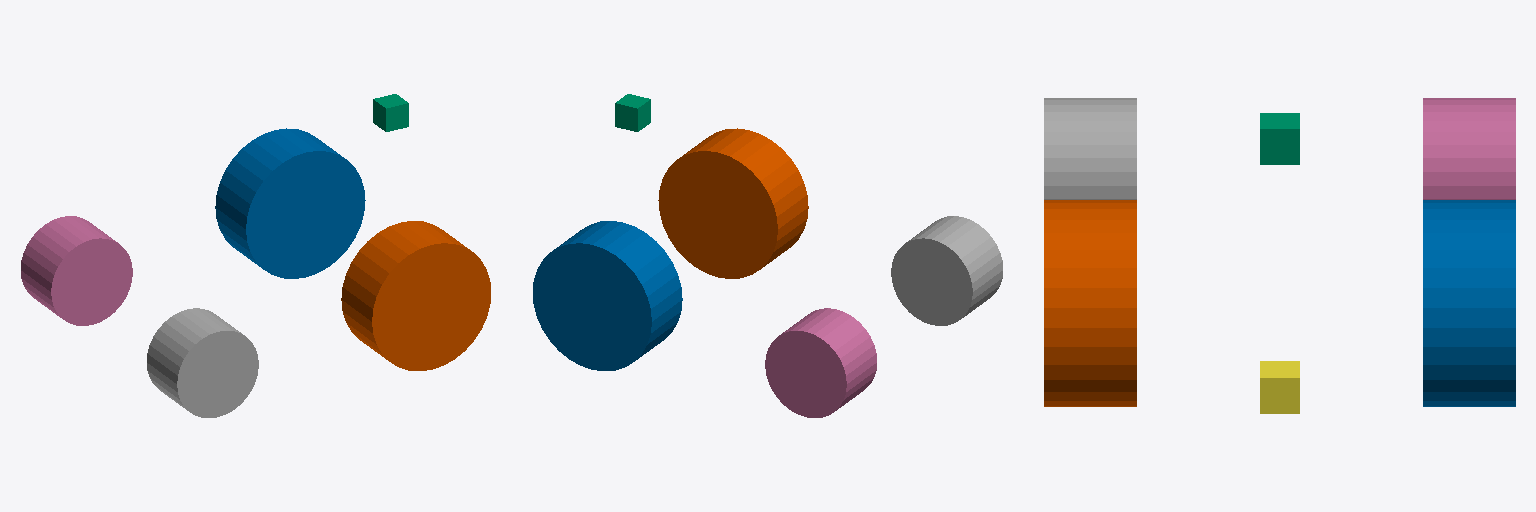
robot.urdf — robot:
<?xml version="1.0" ?>
<!-- =================================================================================== -->
<!-- |    This document was autogenerated by xacro from ./cozmo.xacro                  | -->
<!-- |    EDITING THIS FILE BY HAND IS NOT RECOMMENDED                                 | -->
<!-- =================================================================================== -->
<robot name="robot">
  <link name="base_footprint"/>
  <joint name="base_footprint_joint" type="fixed">
    <origin rpy="0 0 0" xyz="0 0 0.027"/>
    <parent link="base_footprint"/>
    <child link="base_link"/>
  </joint>
  <!-- Body -->
  <link name="base_link">
    <visual>
      <geometry>
        <!-- TODO: check why this collada file won't load into gazebo -->
        <mesh filename="package://anki_description/meshes/body3.dae"/>
      </geometry>
    </visual>
    <collision>
      <geometry>
        <mesh filename="package://anki_description/meshes/body3.dae"/>
      </geometry>
    </collision>
  </link>
  <inertial>
    <mass value="0.06"/>
    <inertia ixx="2.7849999999999996e-05" ixy="0" ixz="0" iyy="4.5249999999999995e-05" iyz="0" izz="4.5249999999999995e-05"/>
  </inertial>
  <gazebo reference="base_link">
    <selfCollide>true</selfCollide>
    <mu1 value="200.0"/>
    <mu2 value="100.0"/>
    <kp value="10000000.0"/>
    <kd value="1.0"/>
  </gazebo>
  <!-- Head -->
  <link name="head">
    <visual>
      <geometry>
        <mesh filename="package://anki_description/meshes/cozmo_head.dae"/>
      </geometry>
    </visual>
    <collision>
      <geometry>
        <mesh filename="package://anki_description/meshes/cozmo_head.dae"/>
      </geometry>
    </collision>
    <inertial>
      <mass value="0.01"/>
      <inertia ixx="2.6041666666666666e-06" ixy="0" ixz="0" iyy="2.4808333333333334e-06" iyz="0" izz="2.4808333333333334e-06"/>
    </inertial>
  </link>
  <gazebo reference="head">
    <kp>1000000000.0</kp>
    <kd>1000000000.0</kd>
    <mu1>10.0</mu1>
    <mu2>10.0</mu2>
    <self_collide>0</self_collide>
  </gazebo>
  <!-- lifter -->
  <link name="full_lift">
    <inertia ixx="4.886666666666668e-06" ixy="0" ixz="0" iyy="7.550833333333333e-06" iyz="0" izz="7.550833333333333e-06"/>
    <visual>
      <geometry>
        <mesh filename="package://anki_description/meshes/cozmo_lift.dae"/>
      </geometry>
    </visual>
    <collision>
      <geometry>
        <mesh filename="package://anki_description/meshes/cozmo_lift.dae"/>
      </geometry>
    </collision>
  </link>
  <joint name="base_to_head" type="revolute">
    <parent link="base_link"/>
    <child link="head"/>
    <origin xyz="0.0174507 0 0.022003"/>
    <limit effort="100" lower="-0.52" upper="0.17" velocity="10"/>
    <!-- Damping breaks the model (?), keep it 0.0 -->
    <dynamics damping="0.0" friction="0.1"/>
    <axis xyz="0 1 0"/>
  </joint>
  <joint name="base_to_lift" type="revolute">
    <parent link="base_link"/>
    <child link="full_lift"/>
    <origin xyz="-0.005 0 0.013"/>
    <limit effort="10" lower="-0.8" upper="0" velocity="10"/>
    <dynamics damping="0.0" friction="0.1"/>
    <axis xyz="0 1 0"/>
  </joint>
  <!-- Transmissions for joints -->
  <transmission name="base_to_head_trans">
    <type>transmission_interface/SimpleTransmission</type>
    <joint name="base_to_head">
      <hardwareInterface>hardware_interface/PositionJointInterface</hardwareInterface>
    </joint>
    <actuator name="base_to_headMotor">
      <hardwareInterface>hardware_interface/PositionJointInterface</hardwareInterface>
      <mechanicalReduction>1</mechanicalReduction>
      <motorTorqueConstant>1</motorTorqueConstant>
    </actuator>
  </transmission>
  <transmission name="base_to_lift_trans">
    <type>transmission_interface/SimpleTransmission</type>
    <joint name="base_to_lift">
      <hardwareInterface>hardware_interface/PositionJointInterface</hardwareInterface>
    </joint>
    <actuator name="base_to_liftMotor">
      <hardwareInterface>hardware_interface/PositionJointInterface</hardwareInterface>
      <mechanicalReduction>1</mechanicalReduction>
      <motorTorqueConstant>1</motorTorqueConstant>
    </actuator>
  </transmission>
  <link name="front_left_wheel">
    <visual>
      <material name="black"/>
      <origin rpy="0 0 0" xyz="0 0 0"/>
      <geometry>
        <cylinder length="0.0116739" radius="0.01314"/>
      </geometry>
    </visual>
    <collision>
      <material name="black"/>
      <origin rpy="0 0 0" xyz="0 0 0"/>
      <geometry>
        <cylinder length="0.0116739" radius="0.01314"/>
      </geometry>
    </collision>
    <inertial>
      <origin rpy="0 0 0" xyz="0 0 0"/>
      <geometry>
        <cylinder length="0.0116739" radius="0.01314"/>
      </geometry>
      <mass value="0.01"/>
      <inertia ixx="5.4513975e-07" ixy="0" ixz="0" iyy="5.4513975e-07" iyz="0" izz="8.632980000000002e-07"/>
    </inertial>
  </link>
  <gazebo reference="front_left_wheel">
    <material>Gazebo/Grey</material>
  </gazebo>
  <joint name="front_left_wheel_joint" type="continuous">
    <parent link="base_link"/>
    <child link="front_left_wheel"/>
    <origin rpy="-1.5707963267948966 0 0" xyz="0.03 0.024 -0.012"/>
    <axis xyz="0 0 1"/>
  </joint>
  <transmission name="front_left_wheel_transmission">
    <type>transmission_interface/SimpleTransmission</type>
    <joint name="front_left_wheel_joint">
      <hardwareInterface>hardware_interface/VelocityJointInterface</hardwareInterface>
    </joint>
    <actuator name="front_left_wheel_motor">
      <hardwareInterface>hardware_interface/VelocityJointInterface</hardwareInterface>
      <mechanicalReduction>30</mechanicalReduction>
    </actuator>
  </transmission>
  <gazebo reference="front_left_wheel">
    <selfCollide>True</selfCollide>
    <!-- <mu1 value="200.0"/>
      <mu2 value="100.0"/>
      <kp value="10000000.0"/>
      <kd value="1.0"/> -->
  </gazebo>
  <link name="front_right_wheel">
    <visual>
      <material name="black"/>
      <origin rpy="0 0 0" xyz="0 0 0"/>
      <geometry>
        <cylinder length="0.0116739" radius="0.01314"/>
      </geometry>
    </visual>
    <collision>
      <material name="black"/>
      <origin rpy="0 0 0" xyz="0 0 0"/>
      <geometry>
        <cylinder length="0.0116739" radius="0.01314"/>
      </geometry>
    </collision>
    <inertial>
      <origin rpy="0 0 0" xyz="0 0 0"/>
      <geometry>
        <cylinder length="0.0116739" radius="0.01314"/>
      </geometry>
      <mass value="0.01"/>
      <inertia ixx="5.4513975e-07" ixy="0" ixz="0" iyy="5.4513975e-07" iyz="0" izz="8.632980000000002e-07"/>
    </inertial>
  </link>
  <gazebo reference="front_right_wheel">
    <material>Gazebo/Grey</material>
  </gazebo>
  <joint name="front_right_wheel_joint" type="continuous">
    <parent link="base_link"/>
    <child link="front_right_wheel"/>
    <origin rpy="-1.5707963267948966 0 0" xyz="0.03 -0.024 -0.012"/>
    <axis xyz="0 0 1"/>
  </joint>
  <transmission name="front_right_wheel_transmission">
    <type>transmission_interface/SimpleTransmission</type>
    <joint name="front_right_wheel_joint">
      <hardwareInterface>hardware_interface/VelocityJointInterface</hardwareInterface>
    </joint>
    <actuator name="front_right_wheel_motor">
      <hardwareInterface>hardware_interface/VelocityJointInterface</hardwareInterface>
      <mechanicalReduction>30</mechanicalReduction>
    </actuator>
  </transmission>
  <gazebo reference="front_right_wheel">
    <selfCollide>True</selfCollide>
    <!-- <mu1 value="200.0"/>
      <mu2 value="100.0"/>
      <kp value="10000000.0"/>
      <kd value="1.0"/> -->
  </gazebo>
  <link name="rear_left_wheel">
    <visual>
      <material name="black"/>
      <origin rpy="0 0 0" xyz="0 0 0"/>
      <geometry>
        <cylinder length="0.0116739" radius="0.008995"/>
      </geometry>
    </visual>
    <collision>
      <material name="black"/>
      <origin rpy="0 0 0" xyz="0 0 0"/>
      <geometry>
        <cylinder length="0.0116739" radius="0.008995"/>
      </geometry>
    </collision>
    <inertial>
      <origin rpy="0 0 0" xyz="0 0 0"/>
      <geometry>
        <cylinder length="0.0116739" radius="0.008995"/>
      </geometry>
      <mass value="0.01"/>
      <inertia ixx="3.157658125e-07" ixy="0" ixz="0" iyy="3.157658125e-07" iyz="0" izz="4.0455012499999993e-07"/>
    </inertial>
  </link>
  <gazebo reference="rear_left_wheel">
    <material>Gazebo/Grey</material>
  </gazebo>
  <joint name="rear_left_wheel_joint" type="continuous">
    <parent link="base_link"/>
    <child link="rear_left_wheel"/>
    <origin rpy="-1.5707963267948966 0 0" xyz="-0.017 0.024 -0.0151707"/>
    <axis xyz="0 0 1"/>
  </joint>
  <transmission name="rear_left_wheel_transmission">
    <type>transmission_interface/SimpleTransmission</type>
    <joint name="rear_left_wheel_joint">
      <hardwareInterface>hardware_interface/VelocityJointInterface</hardwareInterface>
    </joint>
    <actuator name="rear_left_wheel_motor">
      <hardwareInterface>hardware_interface/VelocityJointInterface</hardwareInterface>
      <mechanicalReduction>30</mechanicalReduction>
    </actuator>
  </transmission>
  <gazebo reference="rear_left_wheel">
    <selfCollide>True</selfCollide>
    <!-- <mu1 value="200.0"/>
      <mu2 value="100.0"/>
      <kp value="10000000.0"/>
      <kd value="1.0"/> -->
  </gazebo>
  <link name="rear_right_wheel">
    <visual>
      <material name="black"/>
      <origin rpy="0 0 0" xyz="0 0 0"/>
      <geometry>
        <cylinder length="0.0116739" radius="0.008995"/>
      </geometry>
    </visual>
    <collision>
      <material name="black"/>
      <origin rpy="0 0 0" xyz="0 0 0"/>
      <geometry>
        <cylinder length="0.0116739" radius="0.008995"/>
      </geometry>
    </collision>
    <inertial>
      <origin rpy="0 0 0" xyz="0 0 0"/>
      <geometry>
        <cylinder length="0.0116739" radius="0.008995"/>
      </geometry>
      <mass value="0.01"/>
      <inertia ixx="3.157658125e-07" ixy="0" ixz="0" iyy="3.157658125e-07" iyz="0" izz="4.0455012499999993e-07"/>
    </inertial>
  </link>
  <gazebo reference="rear_right_wheel">
    <material>Gazebo/Grey</material>
  </gazebo>
  <joint name="rear_right_wheel_joint" type="continuous">
    <parent link="base_link"/>
    <child link="rear_right_wheel"/>
    <origin rpy="-1.5707963267948966 0 0" xyz="-0.017 -0.024 -0.0151707"/>
    <axis xyz="0 0 1"/>
  </joint>
  <transmission name="rear_right_wheel_transmission">
    <type>transmission_interface/SimpleTransmission</type>
    <joint name="rear_right_wheel_joint">
      <hardwareInterface>hardware_interface/VelocityJointInterface</hardwareInterface>
    </joint>
    <actuator name="rear_right_wheel_motor">
      <hardwareInterface>hardware_interface/VelocityJointInterface</hardwareInterface>
      <mechanicalReduction>30</mechanicalReduction>
    </actuator>
  </transmission>
  <gazebo reference="rear_right_wheel">
    <selfCollide>True</selfCollide>
    <!-- <mu1 value="200.0"/>
      <mu2 value="100.0"/>
      <kp value="10000000.0"/>
      <kd value="1.0"/> -->
  </gazebo>
  <link name="left_belt">
    <visual>
      <geometry>
        <mesh filename="package://anki_description/meshes/cozmo_belt.dae"/>
      </geometry>
    </visual>
  </link>
  <joint name="wheel_left_belt" type="fixed">
    <parent link="base_link"/>
    <child link="left_belt"/>
    <origin xyz="0.00945088 0.024 -0.0133211"/>
  </joint>
  <link name="right_belt">
    <visual>
      <geometry>
        <mesh filename="package://anki_description/meshes/cozmo_belt.dae"/>
      </geometry>
    </visual>
  </link>
  <joint name="wheel_right_belt" type="fixed">
    <parent link="base_link"/>
    <child link="right_belt"/>
    <origin xyz="0.00945088 -0.024 -0.0133211"/>
  </joint>
  <gazebo>
    <plugin filename="libgazebo_ros_skid_steer_drive.so" name="skid_steer_drive_controller">
      <updateRate>25.0</updateRate>
      <robotNamespace>/</robotNamespace>
      <leftFrontJoint>front_left_wheel_joint</leftFrontJoint>
      <rightFrontJoint>front_right_wheel_joint</rightFrontJoint>
      <leftRearJoint>rear_left_wheel_joint</leftRearJoint>
      <rightRearJoint>rear_right_wheel_joint</rightRearJoint>
      <wheelSeparation>0.048</wheelSeparation>
      <wheelDiameter>0.026281</wheelDiameter>
      <robotBaseFrame>base_footprint</robotBaseFrame>
      <torque>1.0</torque>
      <commandTopic>cmd_vel</commandTopic>
      <odometryTopic>odom</odometryTopic>
      <broadcastTF>true</broadcastTF>
      <odometryFrame>odom</odometryFrame>
      <covariance_x>0.0001</covariance_x>
      <covariance_y>0.0001</covariance_y>
      <covariance_yaw>0.001</covariance_yaw>
    </plugin>
  </gazebo>
  <link name="camera_link">
    <visual>
      <geometry>
        <box size="0.005 0.005 0.005"/>
      </geometry>
    </visual>
  </link>
  <joint name="head_camera_joint" type="fixed">
    <parent link="head"/>
    <child link="camera_link"/>
    <origin rpy="0 0 0" xyz="0.020813 0 -0.0071471"/>
  </joint>
  <gazebo reference="camera_link">
    <sensor name="cozmo_camera" type="camera">
      <update_rate>10.0</update_rate>
      <camera name="headcamera">
        <horizontal_fov>1.3962634</horizontal_fov>
        <image>
          <width>400</width>
          <height>400</height>
          <format>R8G8B8</format>
        </image>
        <clip>
          <near>0.01</near>
          <far>100</far>
        </clip>
        <noise>
          <type>gaussian</type>
          <mean>0.0</mean>
          <stddev>0.007</stddev>
        </noise>
      </camera>
      <plugin filename="libgazebo_ros_camera.so" name="camera_controller">
        <alwaysOn>true</alwaysOn>
        <updateRate>10.0</updateRate>
        <cameraName>cozmo_camera</cameraName>
        <imageTopicName>/cozmo/camera</imageTopicName>
        <cameraInfoTopicName>/cozmo/camera_info</cameraInfoTopicName>
        <frameName>camera_link</frameName>
        <hackBaseline>0.07</hackBaseline>
        <distortionK1>0.0</distortionK1>
        <distortionK2>0.0</distortionK2>
        <distortionK3>0.0</distortionK3>
        <distortionT1>0.0</distortionT1>
        <distortionT2>0.0</distortionT2>
      </plugin>
    </sensor>
  </gazebo>
  <link name="drop_ir">
    <visual>
      <geometry>
        <box size="0.005 0.005 0.005"/>
      </geometry>
    </visual>
  </link>
  <joint name="drop_ir_joint" type="fixed">
    <parent link="base_link"/>
    <child link="drop_ir"/>
    <origin rpy="0 1.57 0" xyz="0.0351028 0 -0.0213898"/>
  </joint>
  <gazebo reference="drop_ir">
    <sensor name="ranger" type="ray">
      <pose>0 0 0 0 0 0</pose>
      <visualize>true</visualize>
      <update_rate>50</update_rate>
      <ray>
        <scan>
          <horizontal>
            <samples>10</samples>
            <resolution>1</resolution>
            <min_angle>-0.14835</min_angle>
            <max_angle>0.14835</max_angle>
          </horizontal>
          <vertical>
            <samples>10</samples>
            <resolution>1</resolution>
            <min_angle>-0.14835</min_angle>
            <max_angle>0.14835</max_angle>
          </vertical>
        </scan>
        <range>
          <min>0.001</min>
          <max>0.02</max>
          <resolution>0.02</resolution>
        </range>
      </ray>
      <plugin filename="libgazebo_ros_range.so" name="gazebo_ros_range">
        <gaussianNoise>0.005</gaussianNoise>
        <alwaysOn>true</alwaysOn>
        <updateRate>50</updateRate>
        <topicName>/cozmo/drop_sensor</topicName>
        <frameName>drop_ir</frameName>
        <radiation>INFRARED</radiation>
        <fov>0.2967</fov>
      </plugin>
    </sensor>
  </gazebo>
  <link name="imu"/>
  <joint name="imu_joint" type="fixed">
    <parent link="head"/>
    <child link="imu"/>
    <origin rpy="0 0 0" xyz="0.0 0 0.0"/>
  </joint>
  <gazebo reference="imu">
    <gravity>true</gravity>
    <sensor name="imu_sensor" type="imu">
      <always_on>true</always_on>
      <update_rate>100</update_rate>
      <visualize>true</visualize>
      <topic>cozmo/imu</topic>
      <plugin filename="libgazebo_ros_imu_sensor.so" name="imu_plugin">
        <topicName>cozmo/imu</topicName>
        <bodyName>imu</bodyName>
        <updateRateHZ>10.0</updateRateHZ>
        <gaussianNoise>2.89e-06</gaussianNoise>
        <xyzOffset>0 0 0</xyzOffset>
        <rpyOffset>0 0 0</rpyOffset>
        <frameName>imu</frameName>
      </plugin>
      <pose>0 0 0 0 0 0</pose>
    </sensor>
  </gazebo>
</robot>

--- Facts derived from the render (not from the file) ---
The picture shows the robot from 3 angles, left to right: view 1: azimuth 30°, elevation 25°; view 2: azimuth 150°, elevation 25°; view 3: azimuth 270°, elevation 25°; orthographic projection.
Robot: robot — 13 links, 12 joints (2 revolute, 4 continuous, 6 fixed); root link base_footprint; default pose: all joints at 0.
Links seen in each view (by area): view 1: front_left_wheel, front_right_wheel, rear_left_wheel, rear_right_wheel, camera_link; view 2: front_right_wheel, front_left_wheel, rear_right_wheel, rear_left_wheel, camera_link; view 3: front_left_wheel, front_right_wheel, rear_left_wheel, rear_right_wheel, drop_ir, camera_link.
Link boxes in pixels (box(x1,y1,x2,y2)): front_left_wheel: box(215, 128, 365, 278); front_right_wheel: box(341, 221, 490, 370); rear_left_wheel: box(21, 216, 132, 325); rear_right_wheel: box(147, 308, 258, 417); camera_link: box(373, 94, 408, 131); front_right_wheel: box(658, 128, 808, 278); front_left_wheel: box(533, 221, 682, 370); rear_right_wheel: box(891, 216, 1002, 325); rear_left_wheel: box(765, 308, 876, 417); camera_link: box(615, 94, 650, 131); front_left_wheel: box(1423, 200, 1515, 406); front_right_wheel: box(1044, 200, 1136, 406); rear_left_wheel: box(1423, 98, 1515, 199); rear_right_wheel: box(1044, 98, 1136, 199); drop_ir: box(1260, 361, 1299, 413); camera_link: box(1260, 113, 1299, 164).
Size in the robot's own frame: 0.0691 by 0.0597 by 0.0425 metres.
0 mesh visuals loaded from 4 distinct referenced files (none loaded); not drawn: 5 (reference not matched to a file when rendering).
